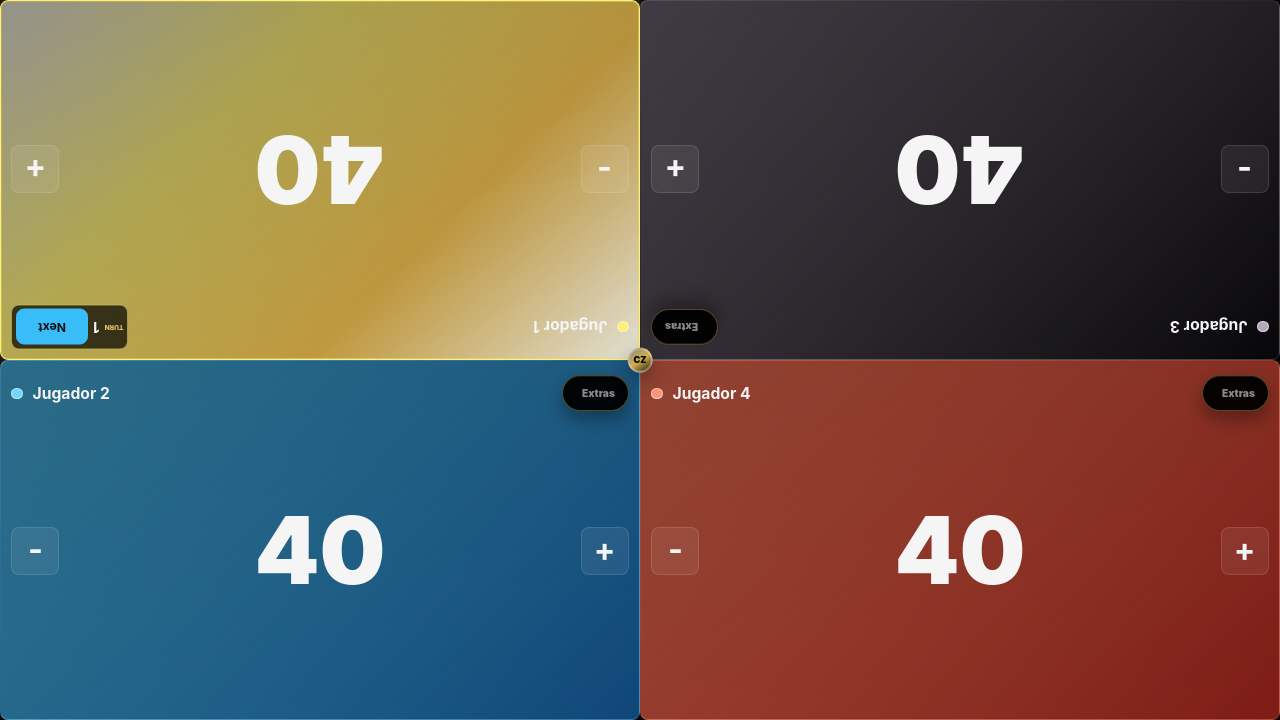
Test: TableAssistantRoomComponent › closes the centered menu when clicking outside
Click the button with class "table-logo-button" at [640, 360], box [628,348,652,372]
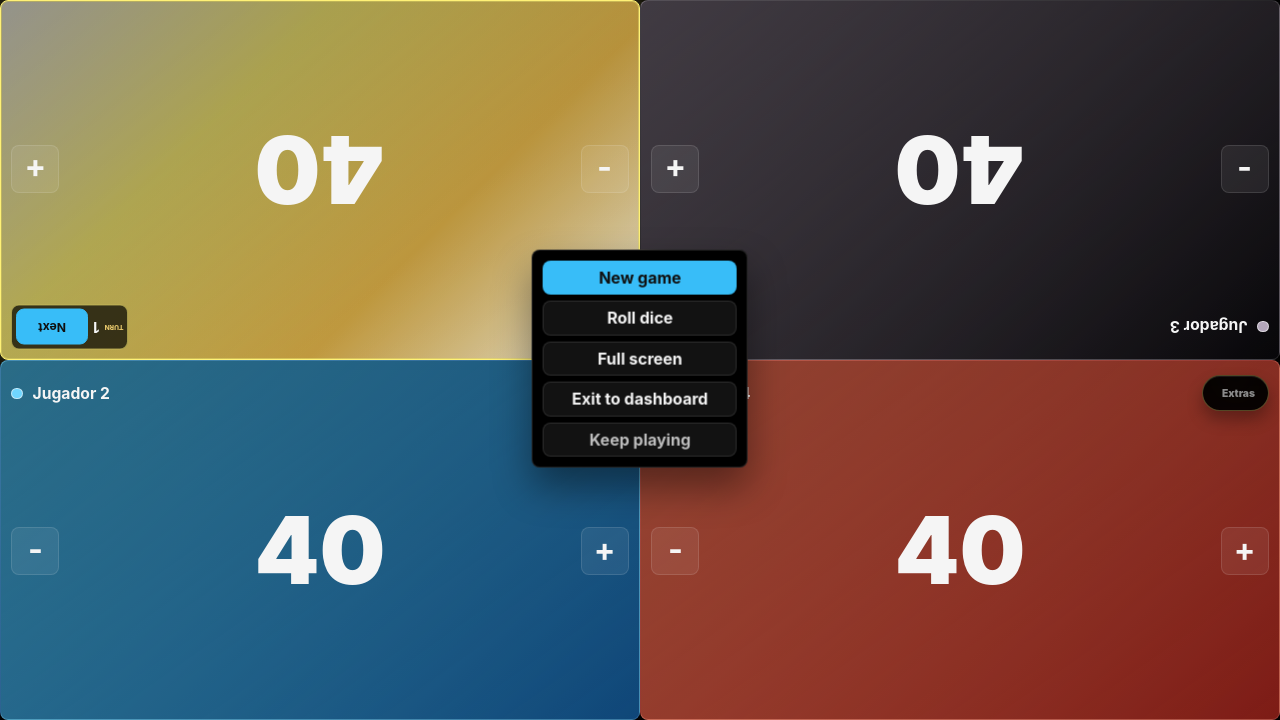
Expected: the dialog with class "table-exit-menu" is shown, [532,250,748,468]
Click the element that starts with "Jugador 1" at [640, 360], box [0,0,1279,719]
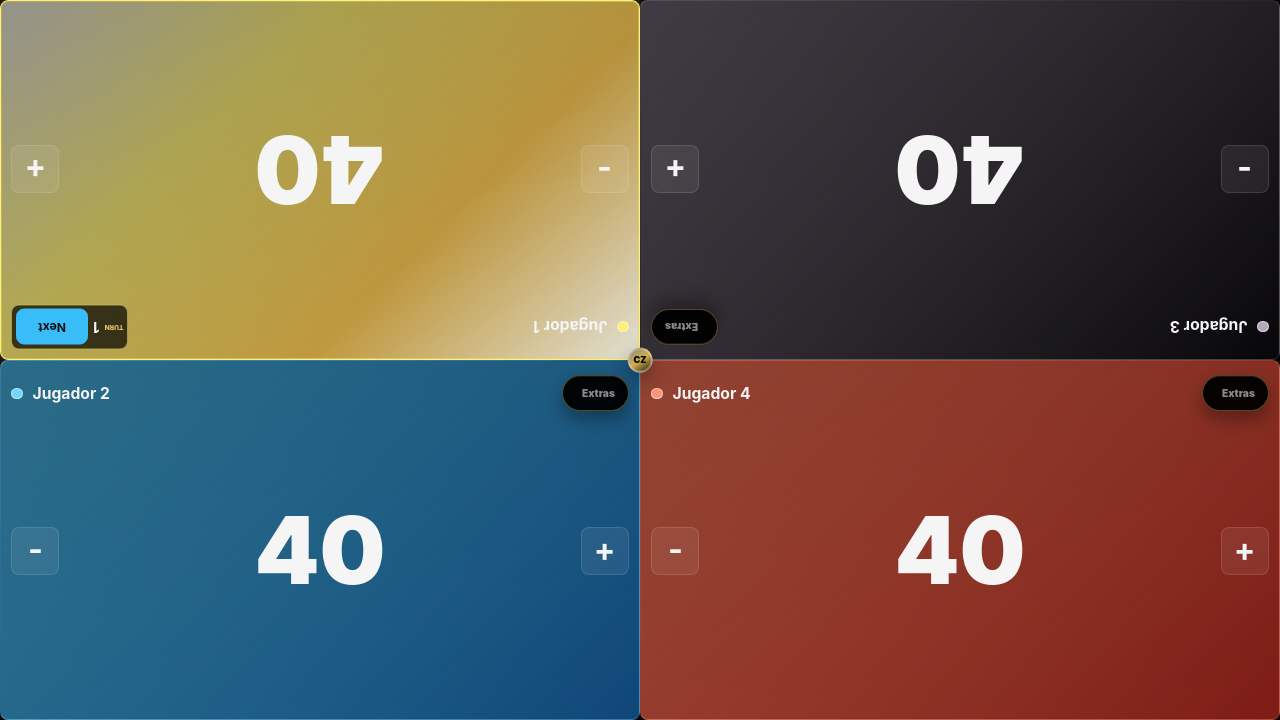
Expected: the dialog with class "table-exit-menu" is gone
